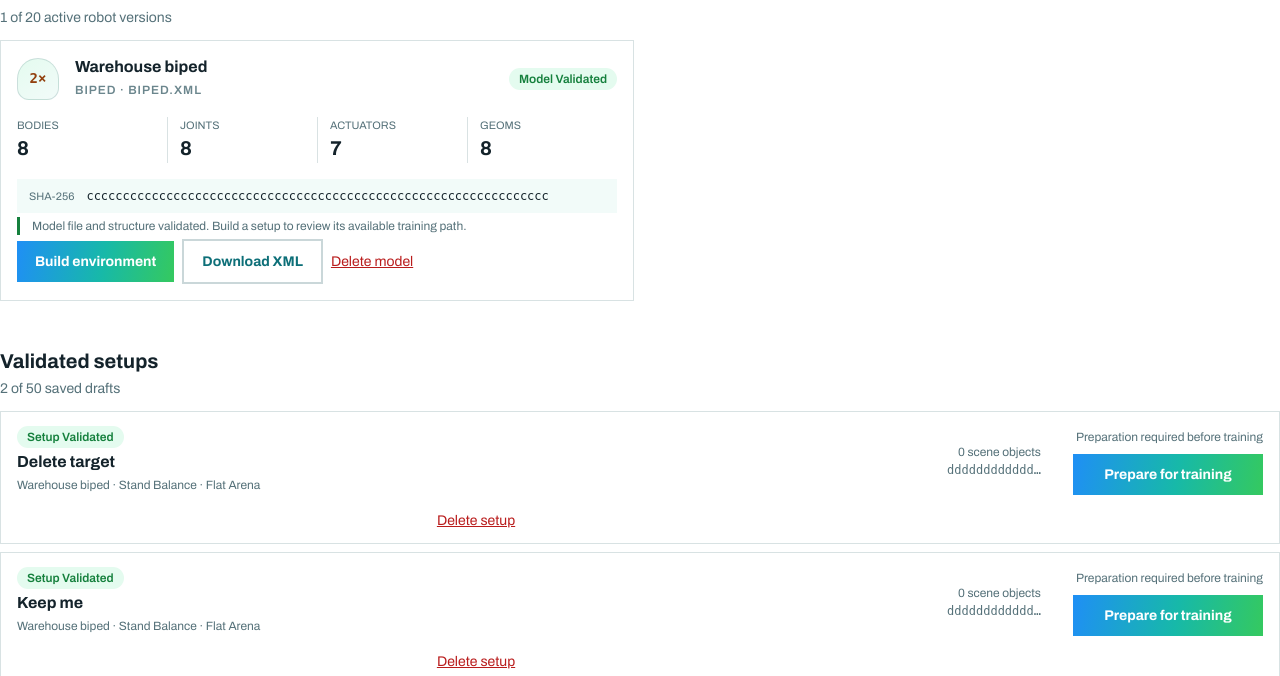
My Robots workspace › [component:setup-delete] cancels then confirms setup deletion without changing another row
(page scrolled)
Click the button "Delete setup" below "Delete target" at (476, 521), box [17,510,935,531]
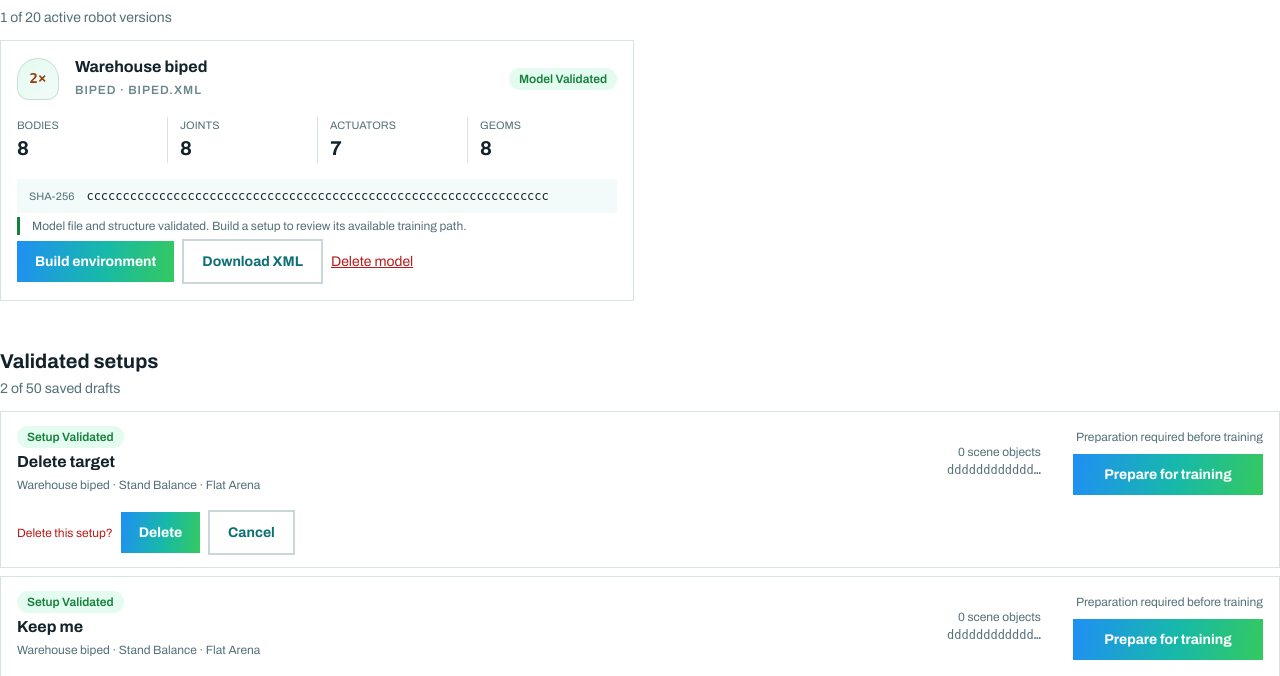
Click the button "Cancel" at (252, 533), box [208,510,295,555]
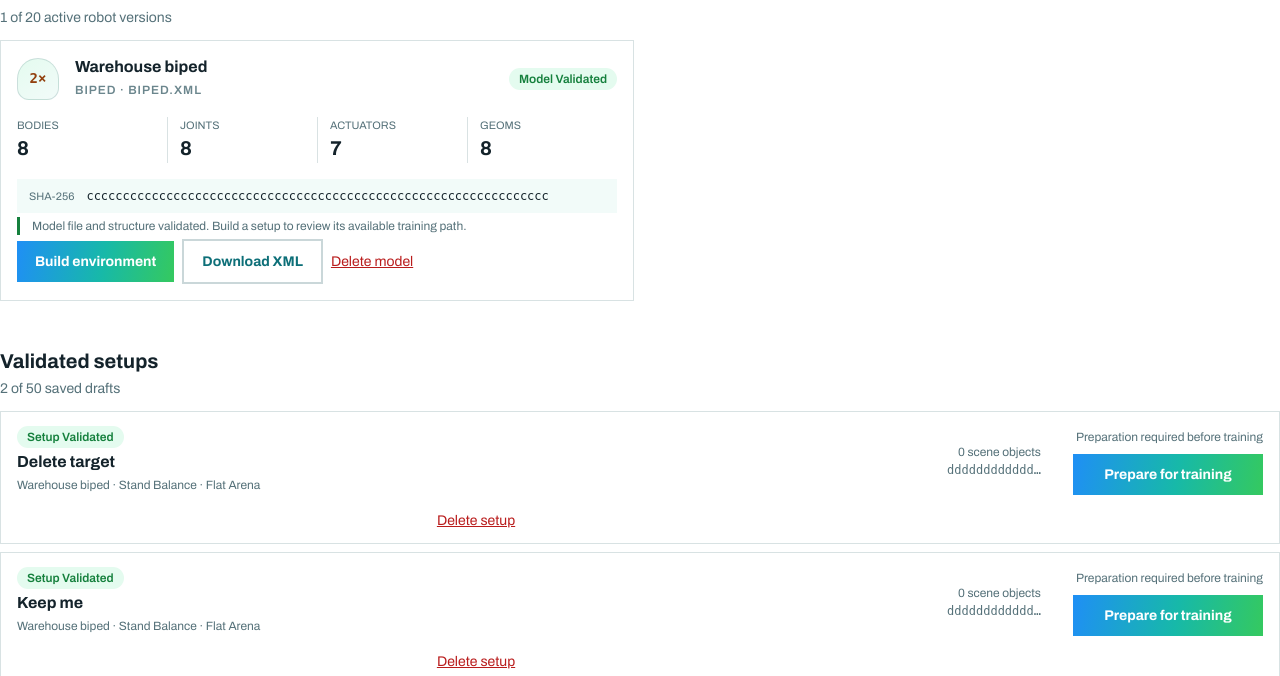
Check: the heading "Delete target" is shown, box [17,453,115,470]
Click the button "Delete setup" below "Delete target" at (476, 521), box [17,510,935,531]
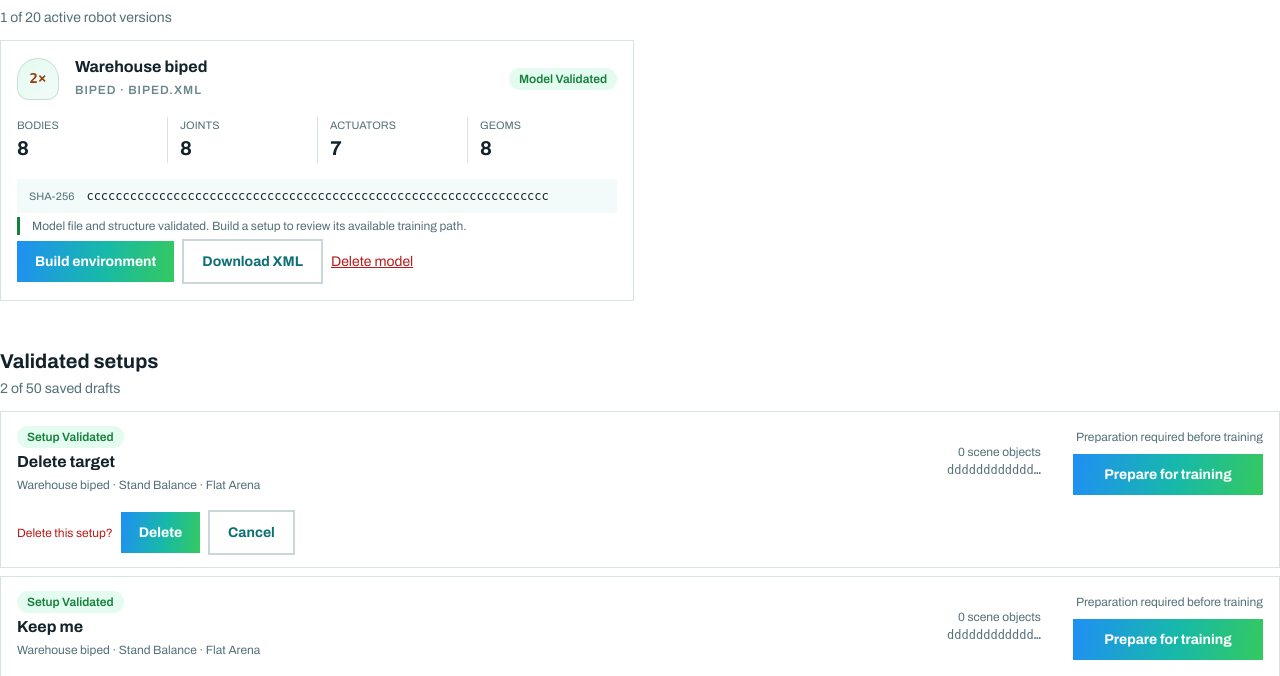
Click the button "Delete" at (160, 533), box [121,512,200,553]
(page scrolled)
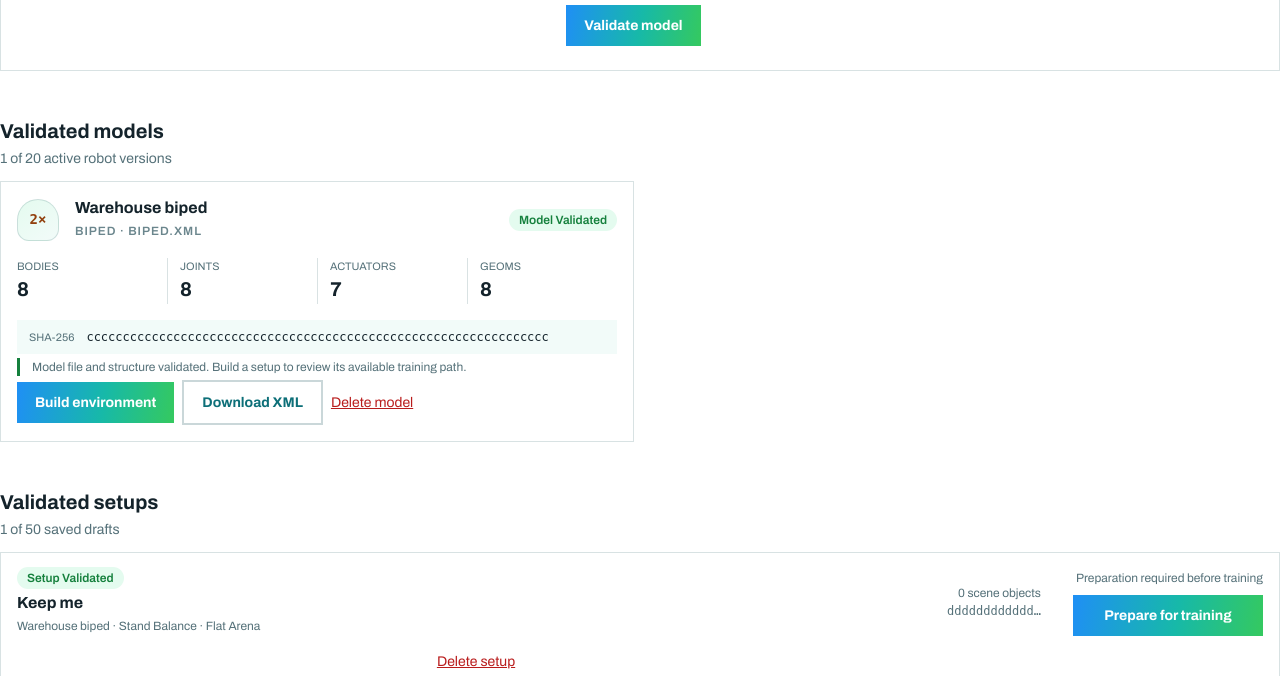
Check: the heading "Keep me" is shown, box [17,594,83,611]
Check: the heading "Delete target" is gone
